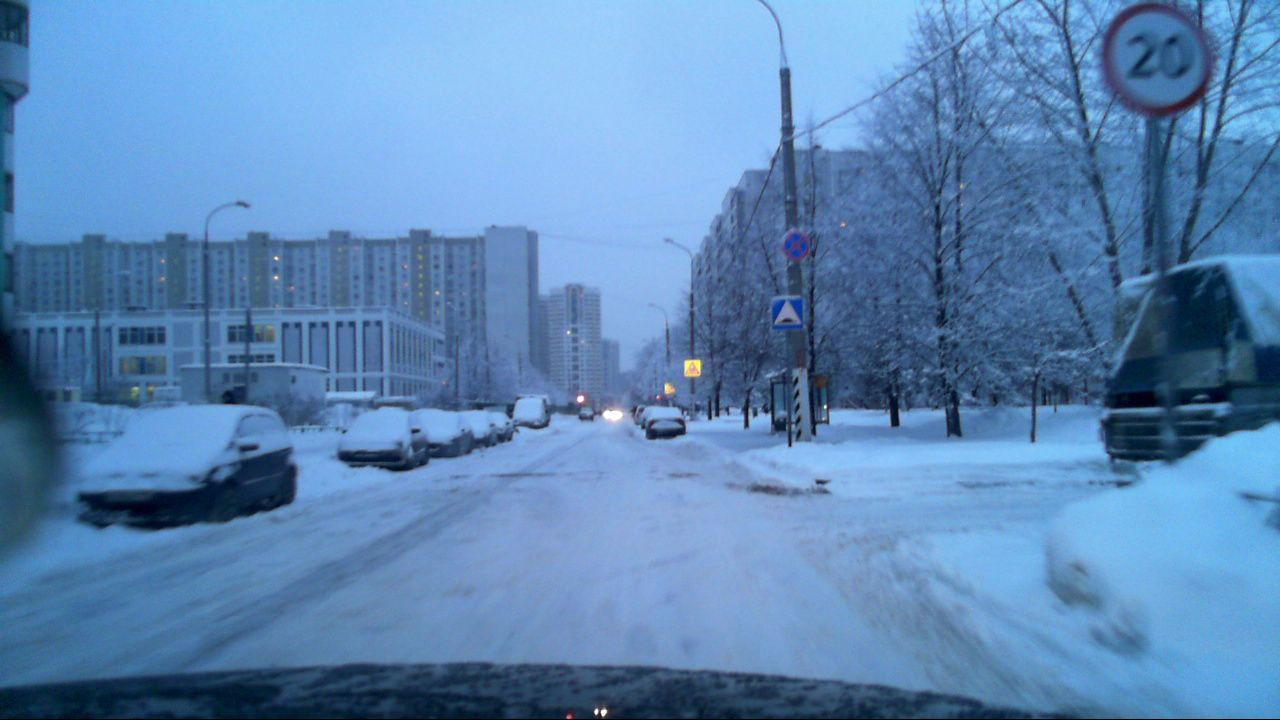No Parking: (779, 228, 810, 259)
